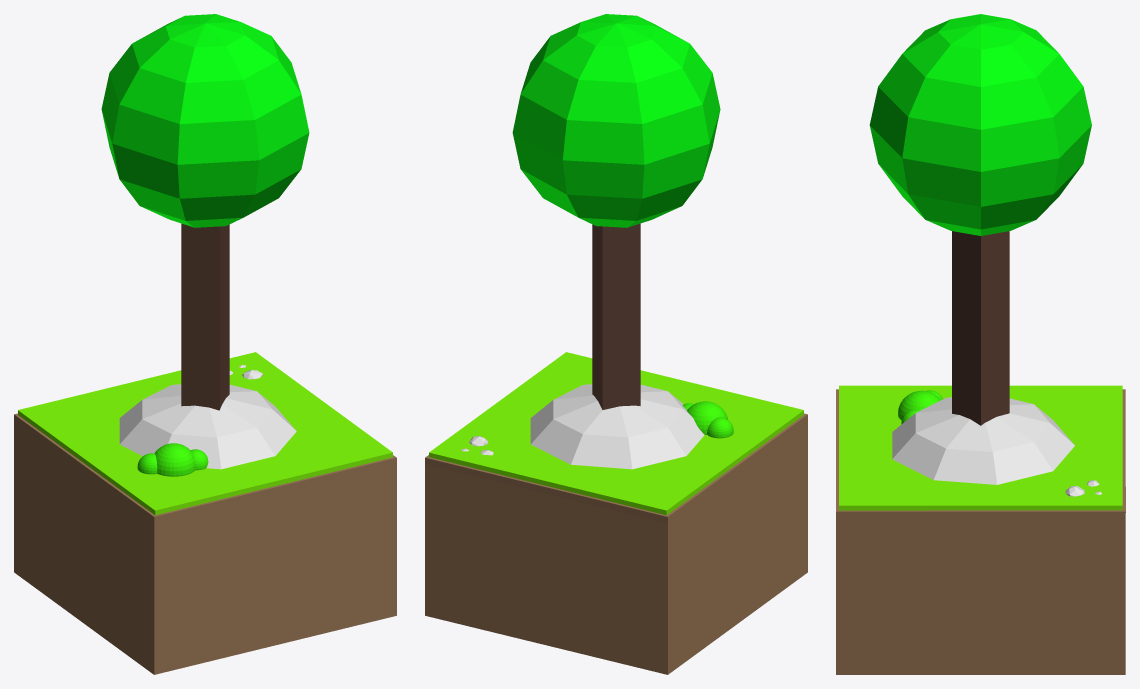
The model's file is All_Tile.glb.
The picture shows the model from 3 angles, left to right: view 1: azimuth 30°, elevation 25°; view 2: azimuth 150°, elevation 25°; view 3: azimuth 270°, elevation 25°; orthographic projection. The views are drawn at different scales.
Visible parts, largest first — view 1: Grass, Sphere, Big Rock, Cylinder, Bush; view 2: Grass, Sphere, Big Rock, Cylinder, Bush; view 3: Grass, Sphere, Big Rock, Cylinder, Bush.
Part boxes in pixels (x1,y1,x2,y2): Grass: [14, 352, 396, 674]; Sphere: [101, 14, 309, 227]; Big Rock: [119, 384, 296, 469]; Cylinder: [181, 223, 229, 410]; Bush: [137, 443, 208, 476]; Grass: [425, 352, 807, 674]; Sphere: [512, 14, 720, 227]; Big Rock: [530, 384, 704, 469]; Cylinder: [592, 223, 640, 409]; Bush: [682, 401, 733, 438]; Grass: [836, 385, 1125, 674]; Sphere: [869, 14, 1091, 235]; Big Rock: [892, 397, 1074, 484]; Cylinder: [952, 231, 1009, 425]; Bush: [898, 390, 942, 424].
Size of the model in its own units: 1 by 2.42 by 1.
